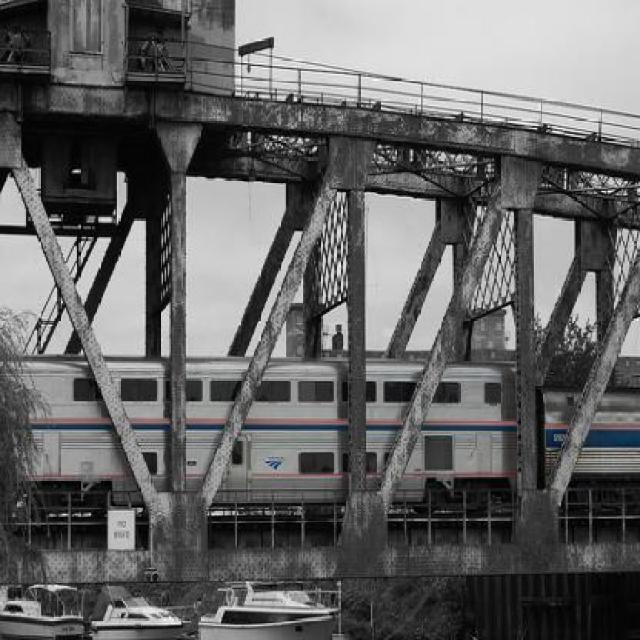ship: (199, 584, 339, 636), (88, 584, 189, 636), (0, 580, 85, 634)
